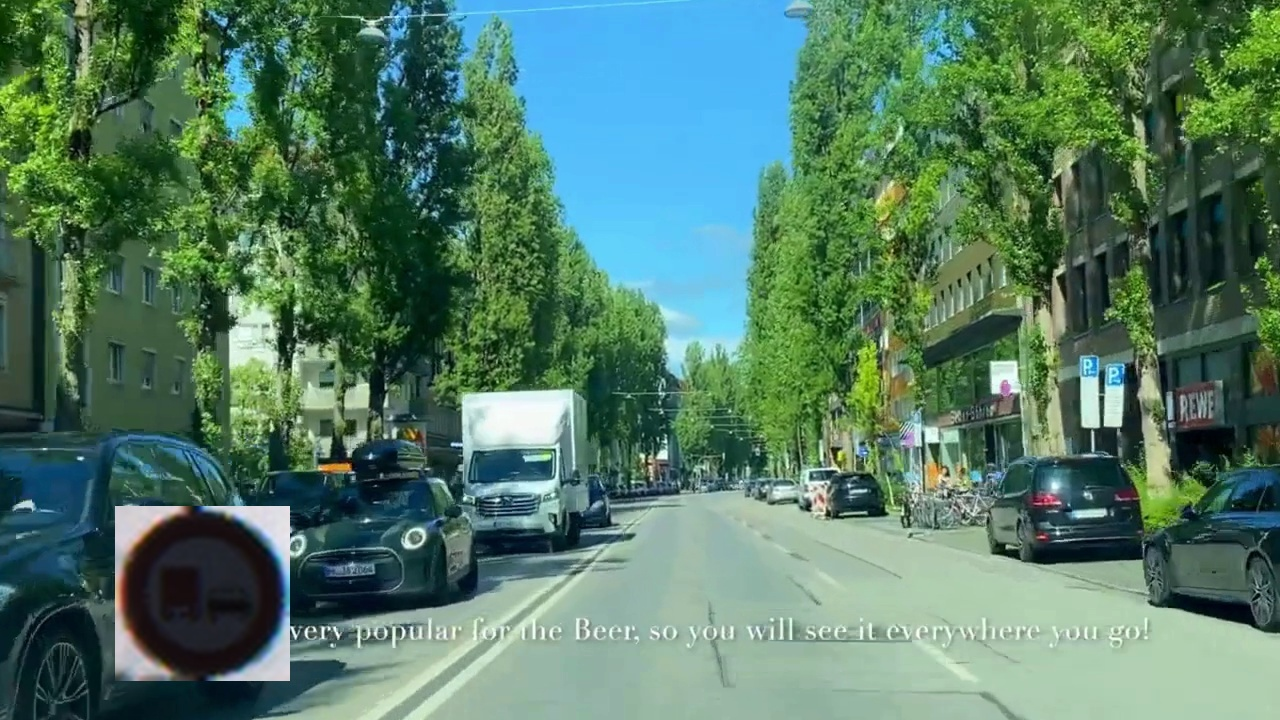No pass >3.5t: (115, 506, 290, 681)
